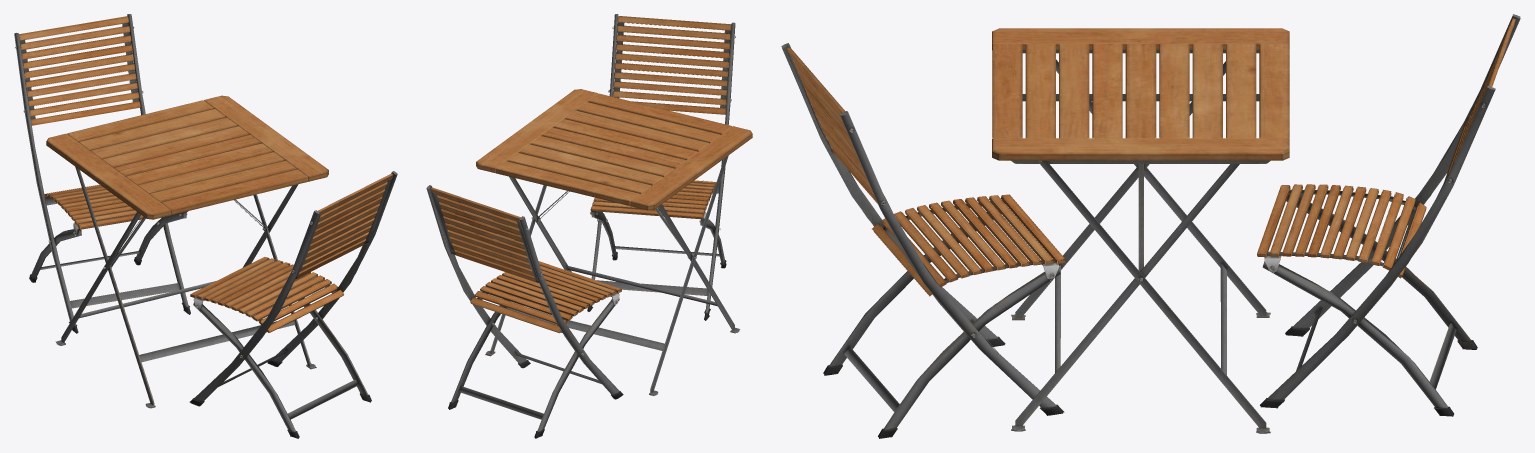
File: ph_outdoor_table_chair_set_01.glb
3 renders of one model, left to right at view 1: azimuth 30°, elevation 25°; view 2: azimuth 150°, elevation 25°; view 3: azimuth 270°, elevation 25°, orthographic. The views are drawn at different scales.
Parts seen in each view (by area): view 1: outdoor_table_chair_set_01_chair_01; view 2: outdoor_table_chair_set_01_chair_01; view 3: outdoor_table_chair_set_01_chair_01.
Part boxes in pixels (x1=…): outdoor_table_chair_set_01_chair_01: x1=14, y1=14, x2=397, y2=438; outdoor_table_chair_set_01_chair_01: x1=426, y1=14, x2=752, y2=438; outdoor_table_chair_set_01_chair_01: x1=781, y1=14, x2=1520, y2=438.
Size of the model in its own units: 0.742 by 0.8586 by 1.72.
2 materials, 2 textured.
